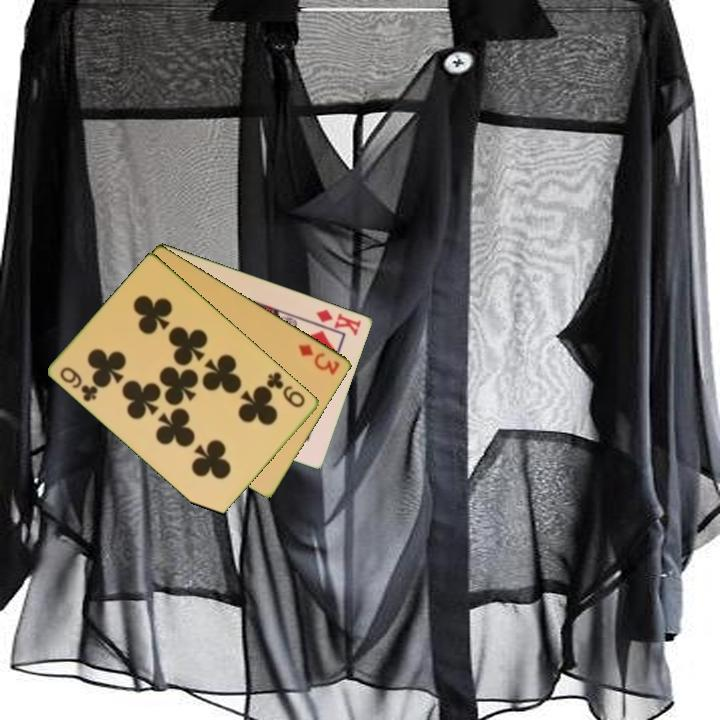3d: (295, 340, 343, 378)
9c: (263, 368, 308, 411), (57, 363, 101, 405)
Kd: (313, 305, 364, 338)
